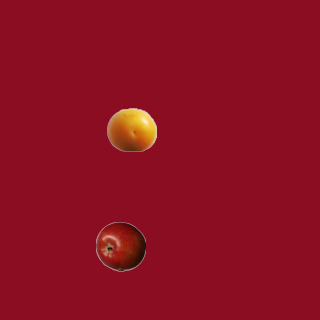Apple Braeburn: (95, 221, 145, 271)
Cherry Wax Yellow: (106, 104, 156, 154)
